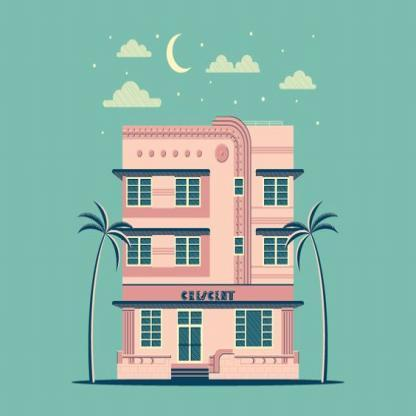Balcony: (242, 121, 282, 133)
Building Outline: (111, 115, 309, 380)
Deco: (181, 290, 235, 301)
Door: (178, 325, 203, 363)
Facade: (111, 115, 309, 380)
Molding: (252, 217, 294, 226), (252, 146, 294, 155), (153, 247, 175, 255), (153, 189, 175, 197)
Pillar: (282, 308, 294, 364), (123, 308, 135, 364)
Window: (236, 309, 272, 347), (141, 309, 161, 347), (127, 236, 152, 266), (127, 177, 152, 207), (176, 177, 201, 207), (264, 177, 289, 207), (176, 236, 201, 266), (264, 236, 289, 266), (178, 311, 202, 325), (235, 237, 244, 255), (235, 177, 244, 195)
